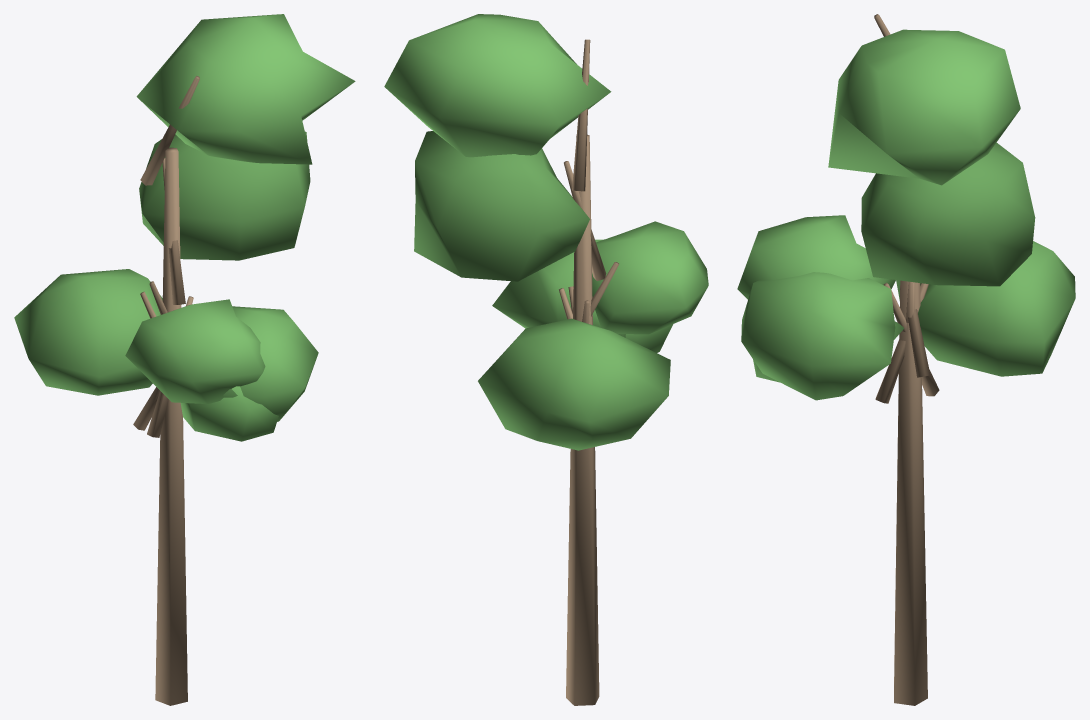
File: sapling_1.glb
The picture shows the model from 3 angles, left to right: view 1: azimuth 30°, elevation 25°; view 2: azimuth 150°, elevation 25°; view 3: azimuth 270°, elevation 25°; orthographic projection. The views are drawn at different scales.
Visible parts, largest first — view 1: sapling; view 2: sapling; view 3: sapling.
Boxes of the visible parts, x1,y1,x2,y2 form: sapling: [14, 14, 355, 705]; sapling: [384, 14, 708, 705]; sapling: [737, 14, 1075, 705].
Bounding box in the file's own units: 0.6729 × 1.45 × 0.6284.
